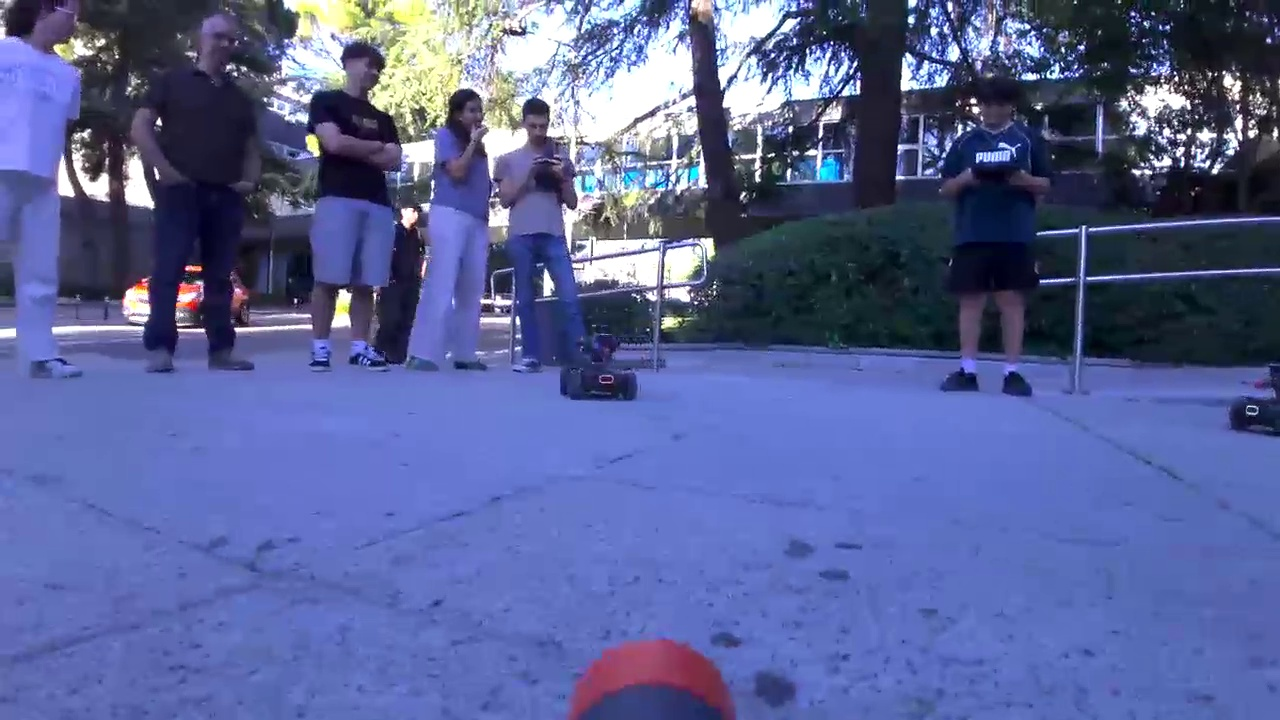robot: (553, 328, 640, 408), (1228, 368, 1280, 432)
